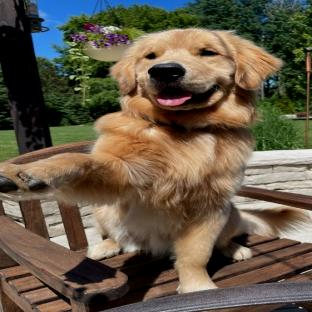Animal: (1, 28, 306, 293)
